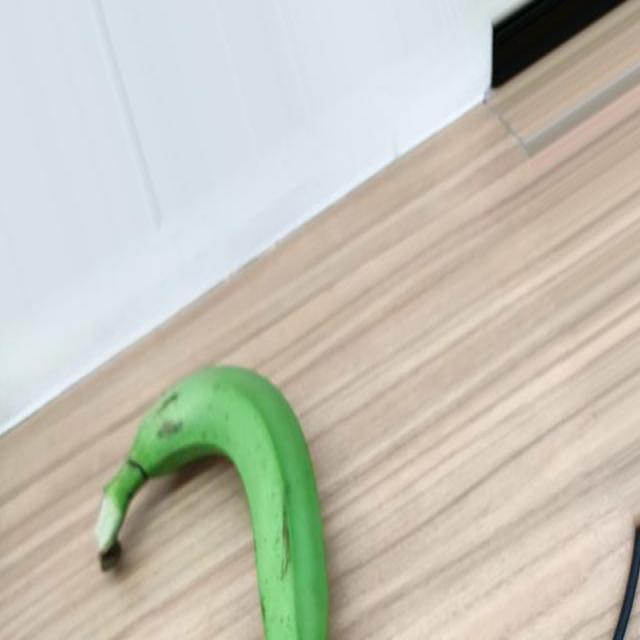Unripe: (93, 365, 330, 640)
